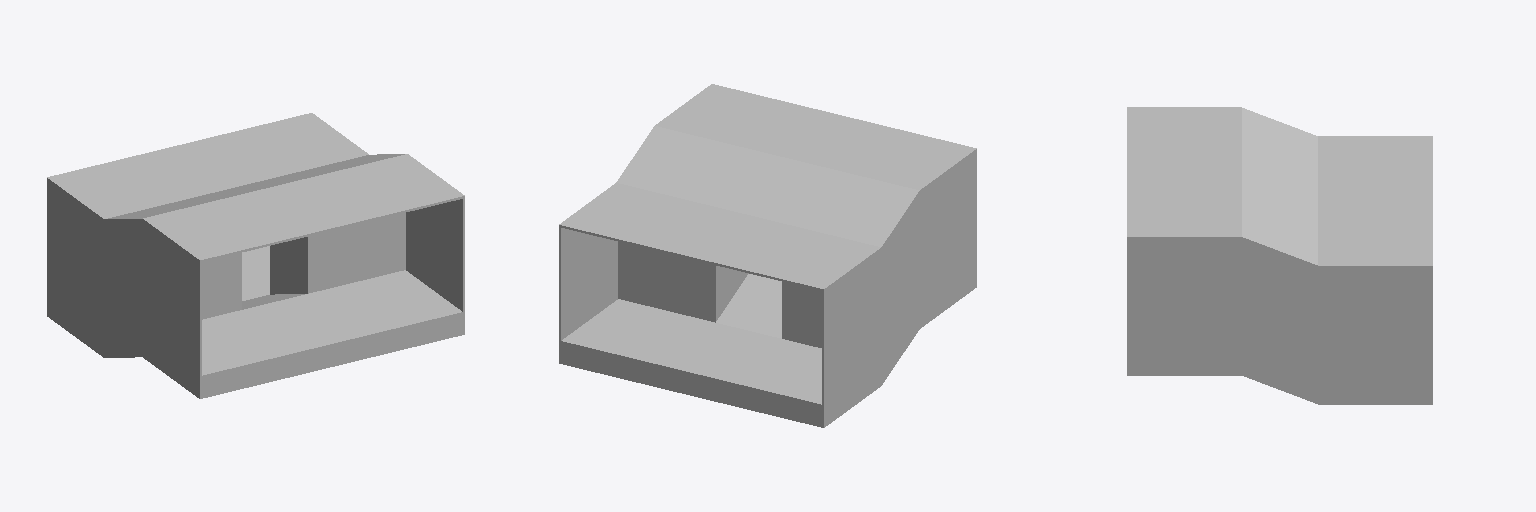
The model's file is front_up.obj.
3 views of the same model, side by side, from view 1: azimuth 30°, elevation 25°; view 2: azimuth 150°, elevation 25°; view 3: azimuth 270°, elevation 25° (orthographic).
Parts seen in each view (by area): view 1: FrontUp; view 2: FrontUp; view 3: FrontUp.
Boxes of the visible parts, <box> form: FrontUp: <box>47,113,464,398</box>; FrontUp: <box>559,84,976,427</box>; FrontUp: <box>1127,107,1432,404</box>.
Size of the model in its own units: 12 by 7.25 by 12.